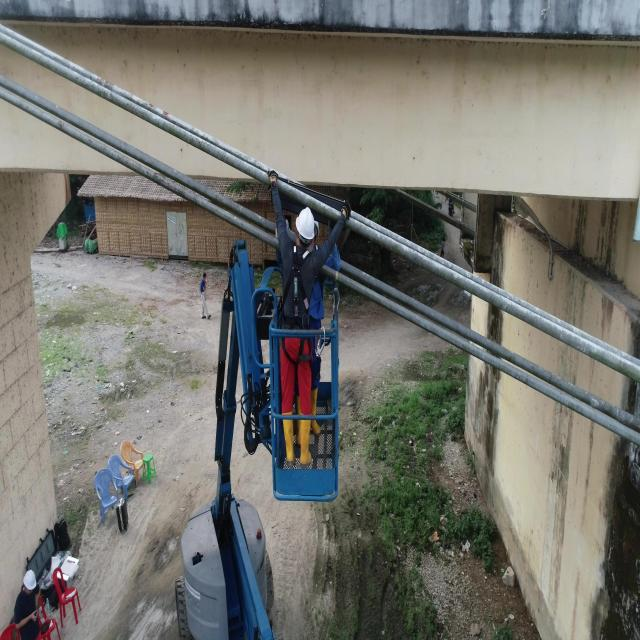corrosion: (105, 80, 114, 90), (97, 76, 104, 85), (148, 103, 154, 112), (163, 110, 169, 119)
crack: (419, 255, 423, 265), (359, 224, 362, 228)
